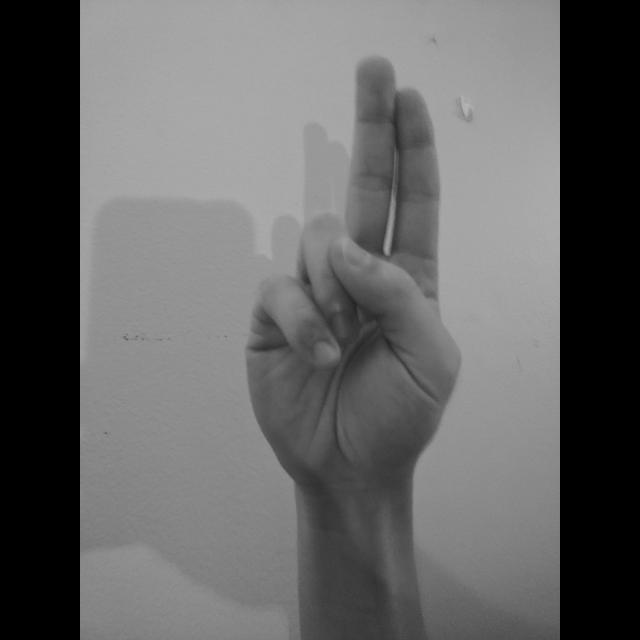U: (240, 48, 468, 482)
